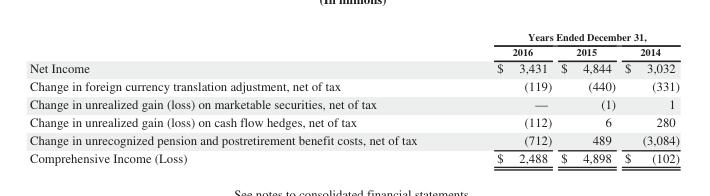table: (28, 29, 678, 165)
table column: (28, 29, 456, 165), (456, 29, 555, 165), (555, 29, 619, 165), (619, 29, 678, 165)
table column header: (28, 29, 678, 58)
table row: (28, 58, 678, 76), (28, 76, 678, 94), (28, 94, 678, 112), (28, 112, 678, 130), (28, 147, 678, 165), (28, 130, 678, 147), (28, 43, 678, 58), (28, 29, 678, 43)
table spanning cell: (456, 29, 678, 43)
